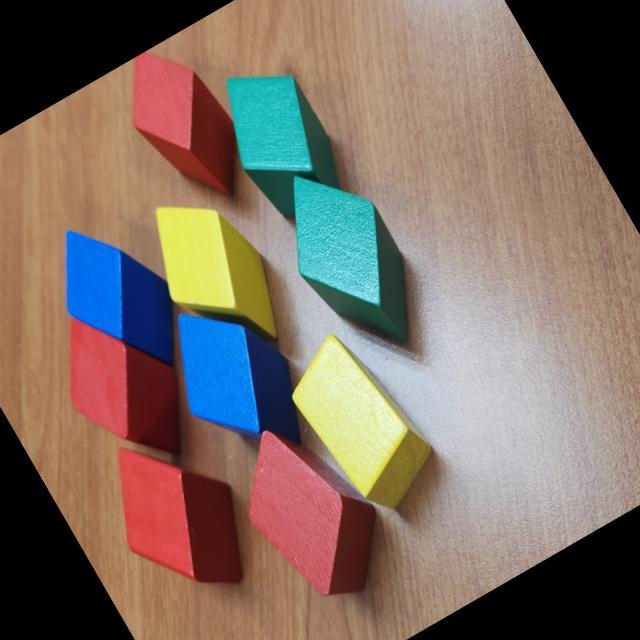blue: (144, 277, 328, 485), (32, 198, 208, 399)
green: (256, 148, 444, 372), (198, 47, 357, 229)
red: (214, 400, 410, 622), (83, 408, 278, 626), (33, 284, 214, 488), (105, 31, 266, 222)
yellow: (274, 318, 451, 526), (127, 172, 303, 376)
